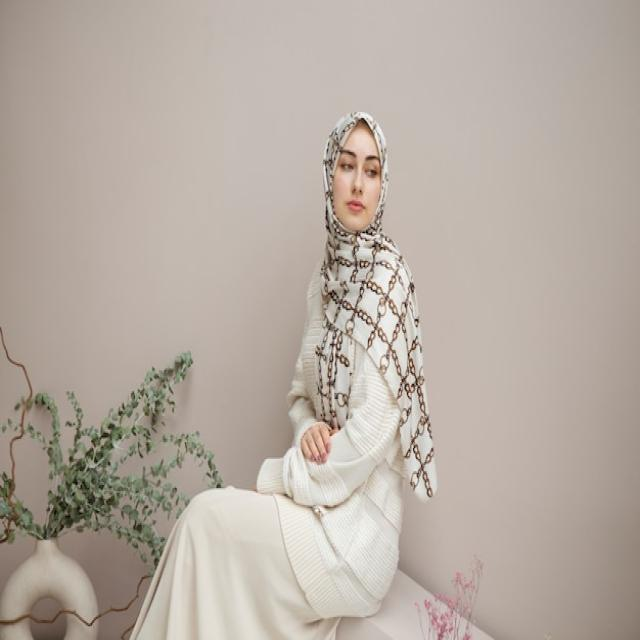Person: (129, 111, 436, 640)
